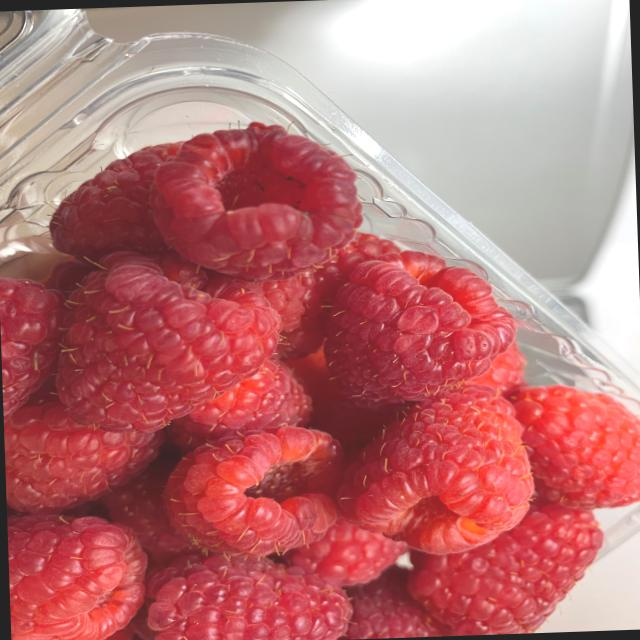raspberries: (0, 103, 577, 640)
